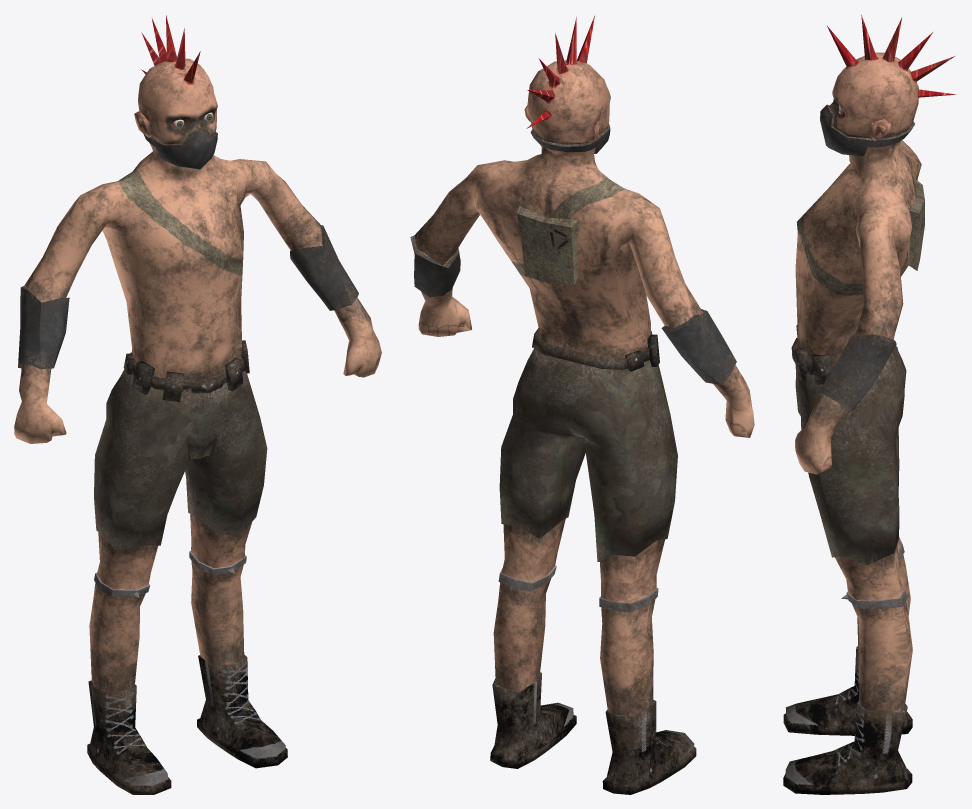
File: Anim_idle_npc2.0047.obj
3 renders of one model, left to right at view 1: azimuth 30°, elevation 25°; view 2: azimuth 150°, elevation 25°; view 3: azimuth 270°, elevation 25°, orthographic. The views are drawn at different scales.
Parts seen in each view (by area): view 1: polySurface1; view 2: polySurface1; view 3: polySurface1.
Boxes of the visible parts, x1,y1,x2,y2 form: polySurface1: (14, 15, 381, 794); polySurface1: (410, 15, 754, 794); polySurface1: (783, 14, 956, 794).
Size of the model in its own units: 5.08 by 10.18 by 2.16.
